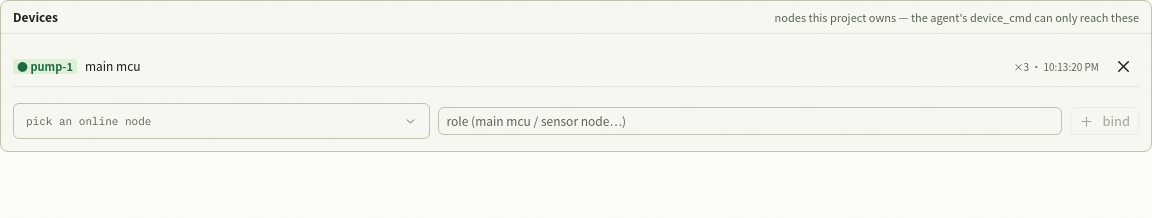
Test: Bindings › offers only the nodes that are not bound yet
Click the button with aria-label "node to bind": (89, 121) [13,103,430,139]
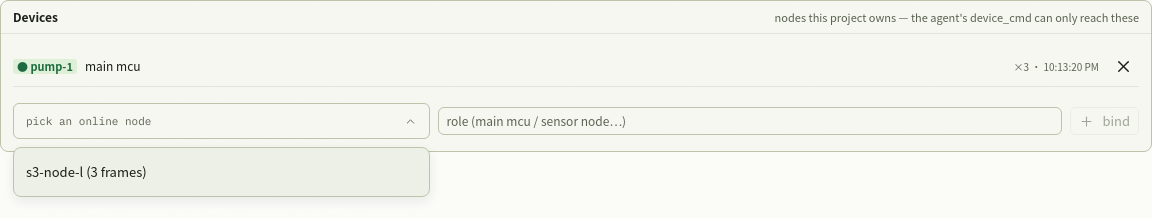
Check: the options read "s3-node-l (3 frames)", in this order, box [26,162,147,181]
